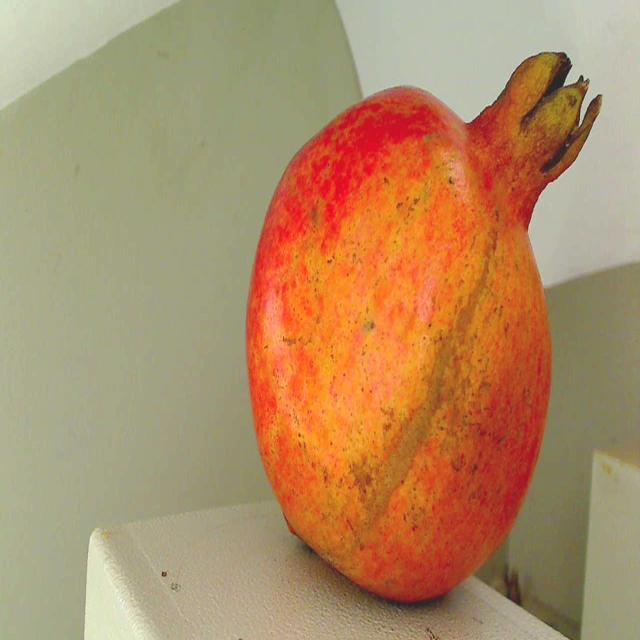pomegranate: (232, 29, 614, 619)
